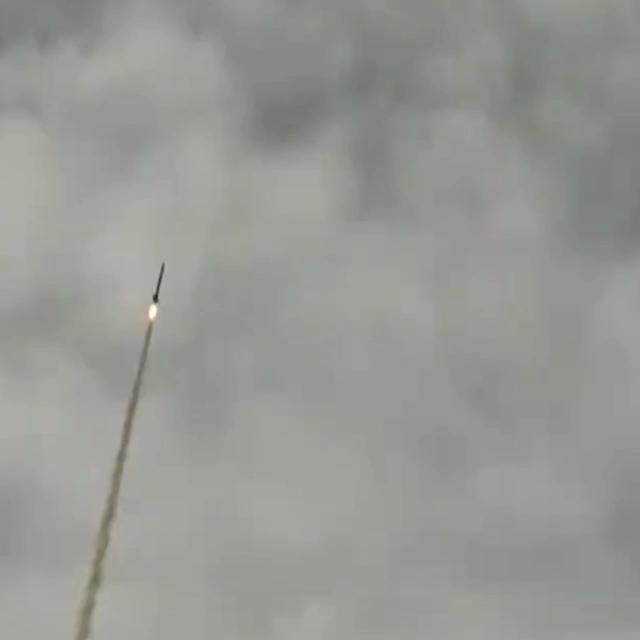smoke_trail_with_rocket: (72, 263, 165, 640)
